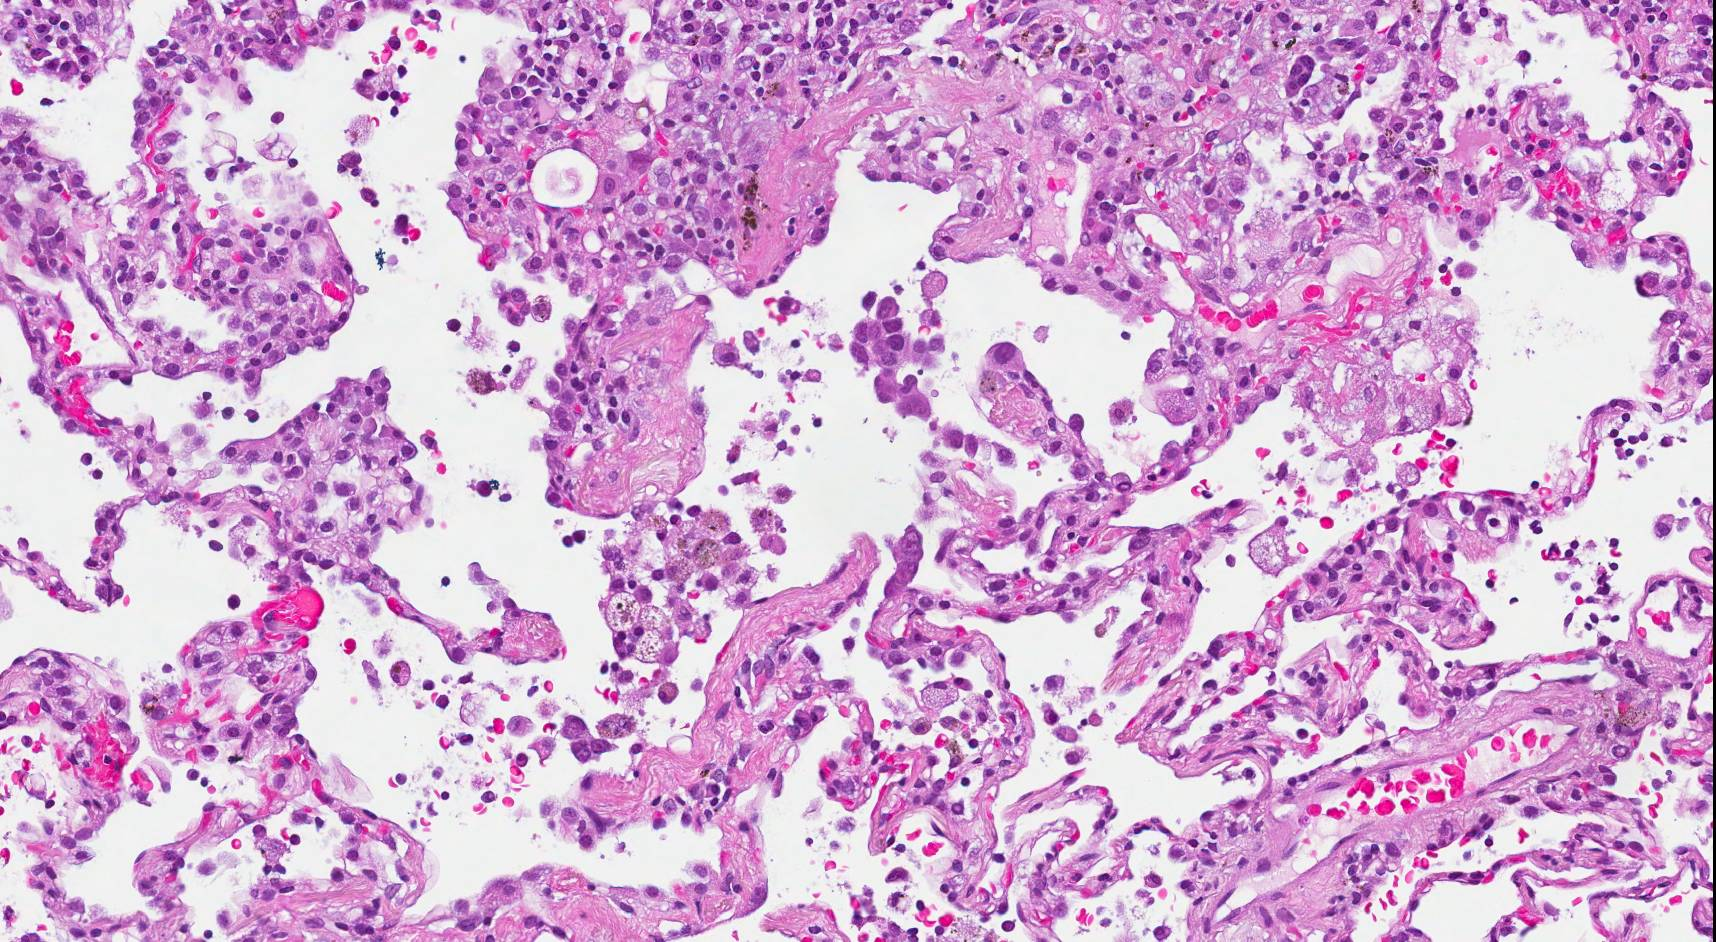stas: (847, 293, 950, 421), (556, 711, 618, 769), (493, 280, 531, 327), (1282, 51, 1320, 99)
